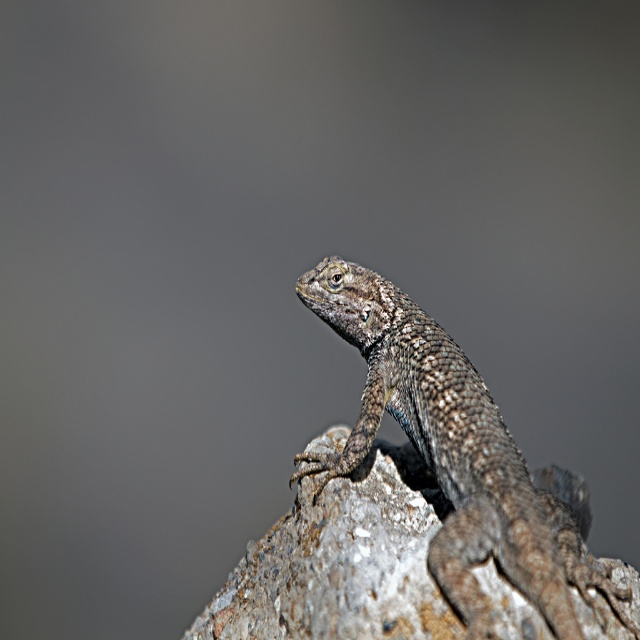Lizard: (296, 253, 640, 639)
